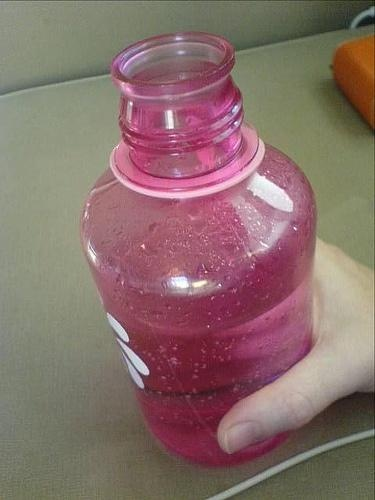bottle: (77, 29, 319, 472)
